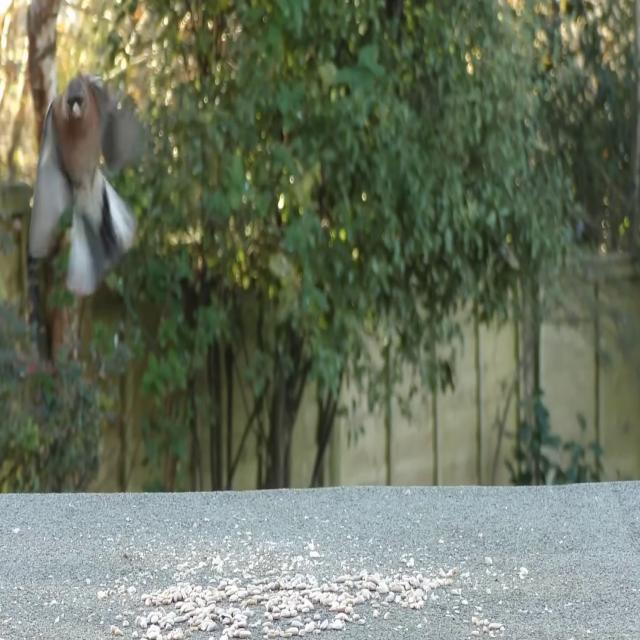beak: (67, 99, 84, 122)
bird: (25, 67, 146, 300)
